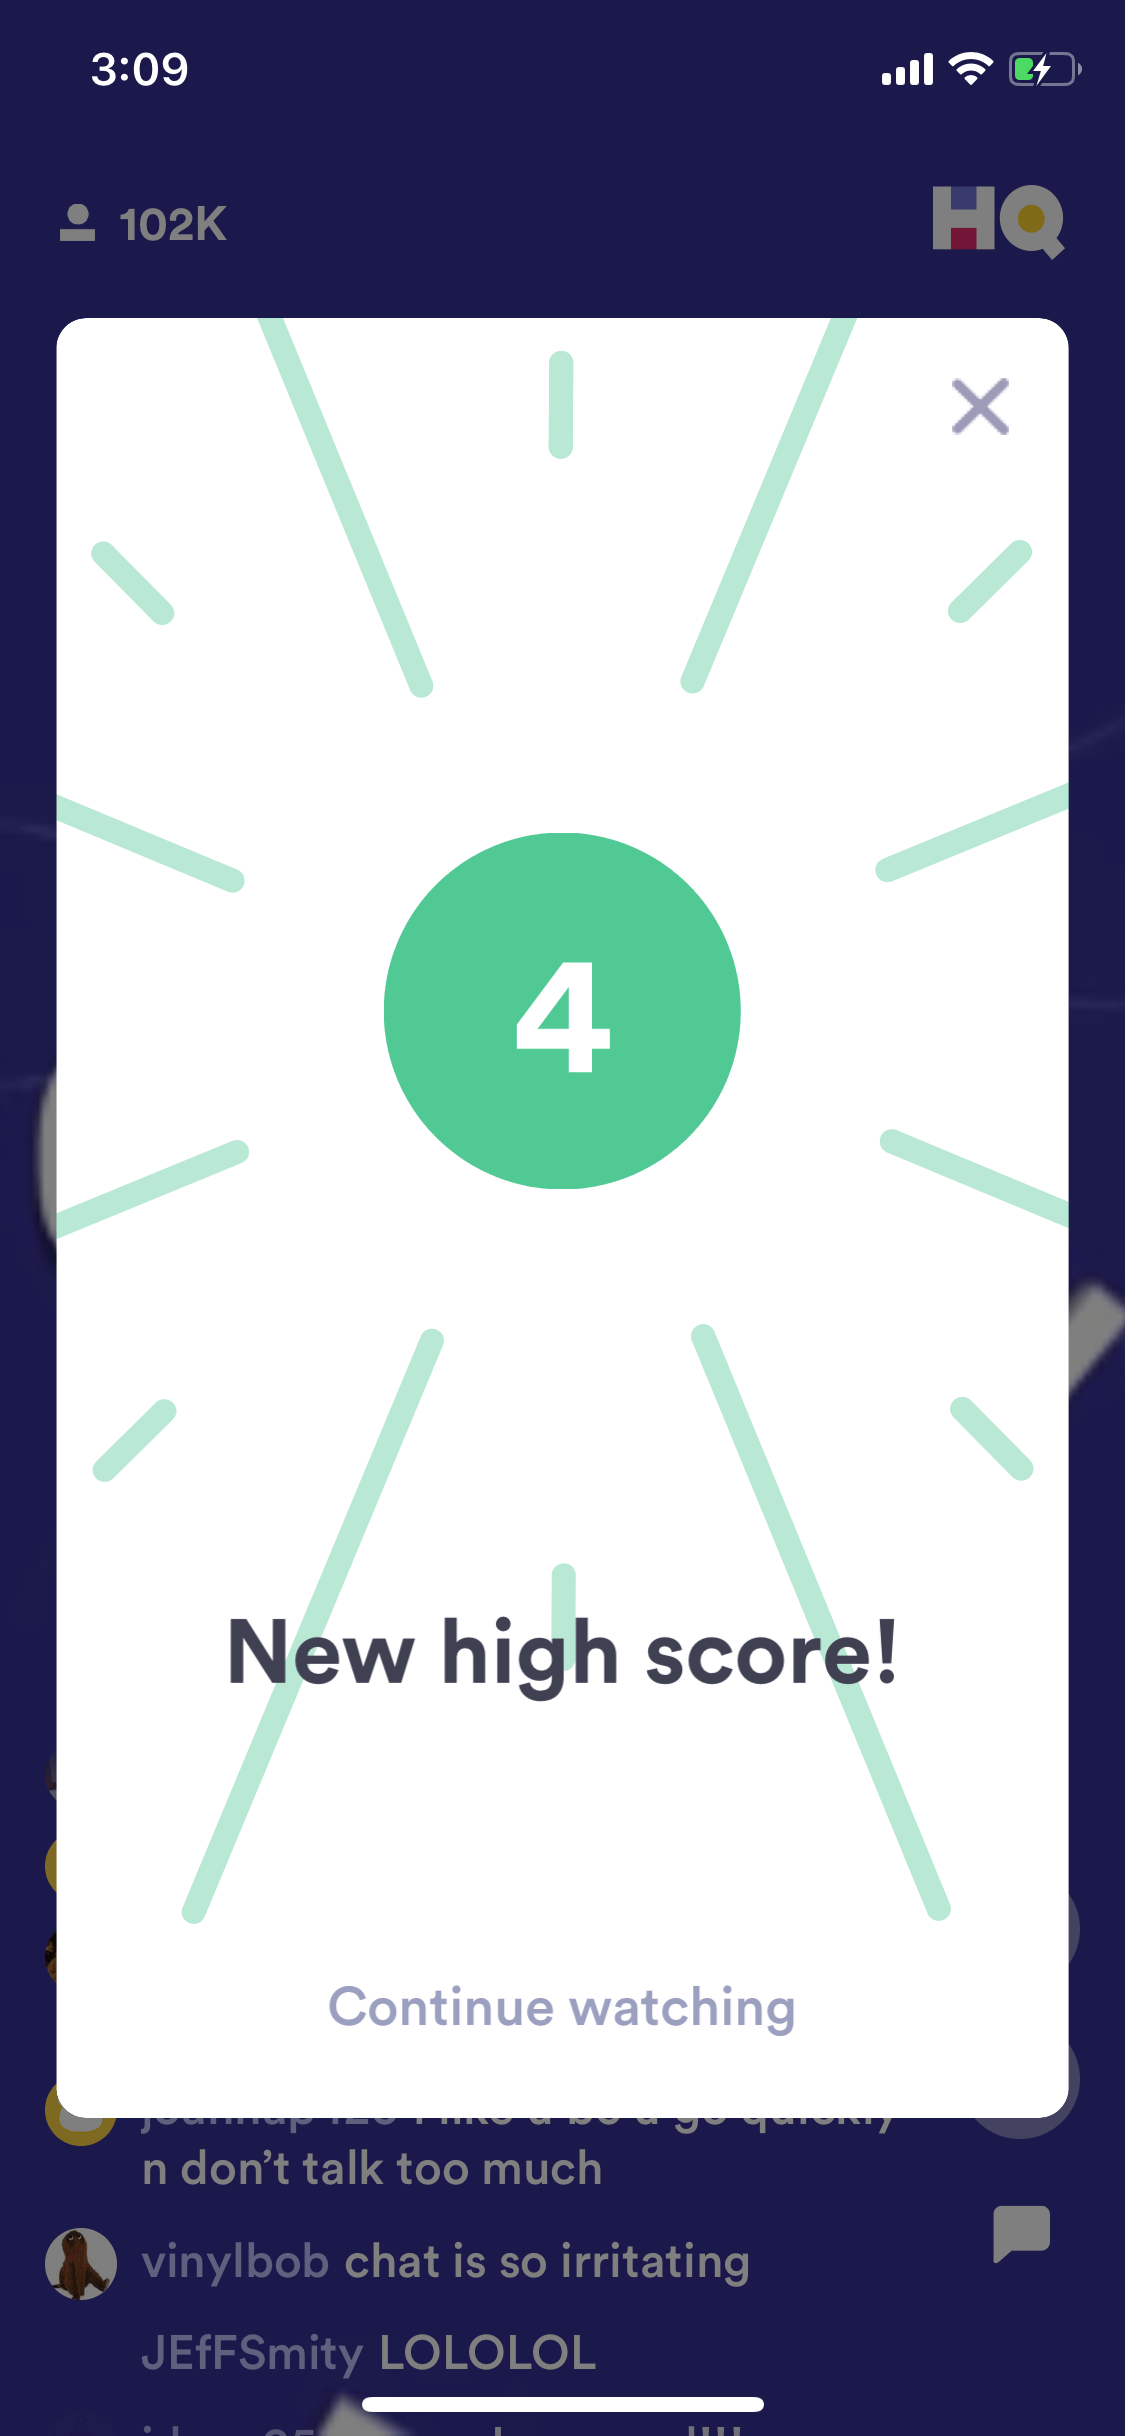Buttons: (906, 345, 1040, 461)
FAB (Floating Action Button): (951, 2177, 1091, 2296)
